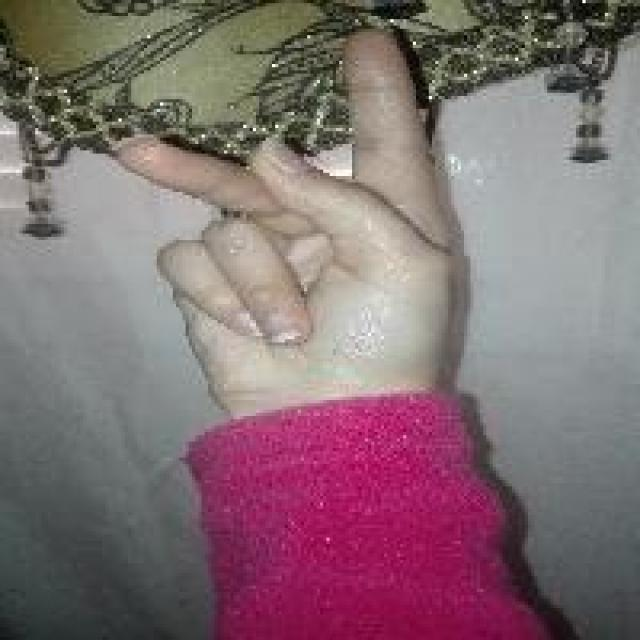K: (107, 14, 488, 389)
